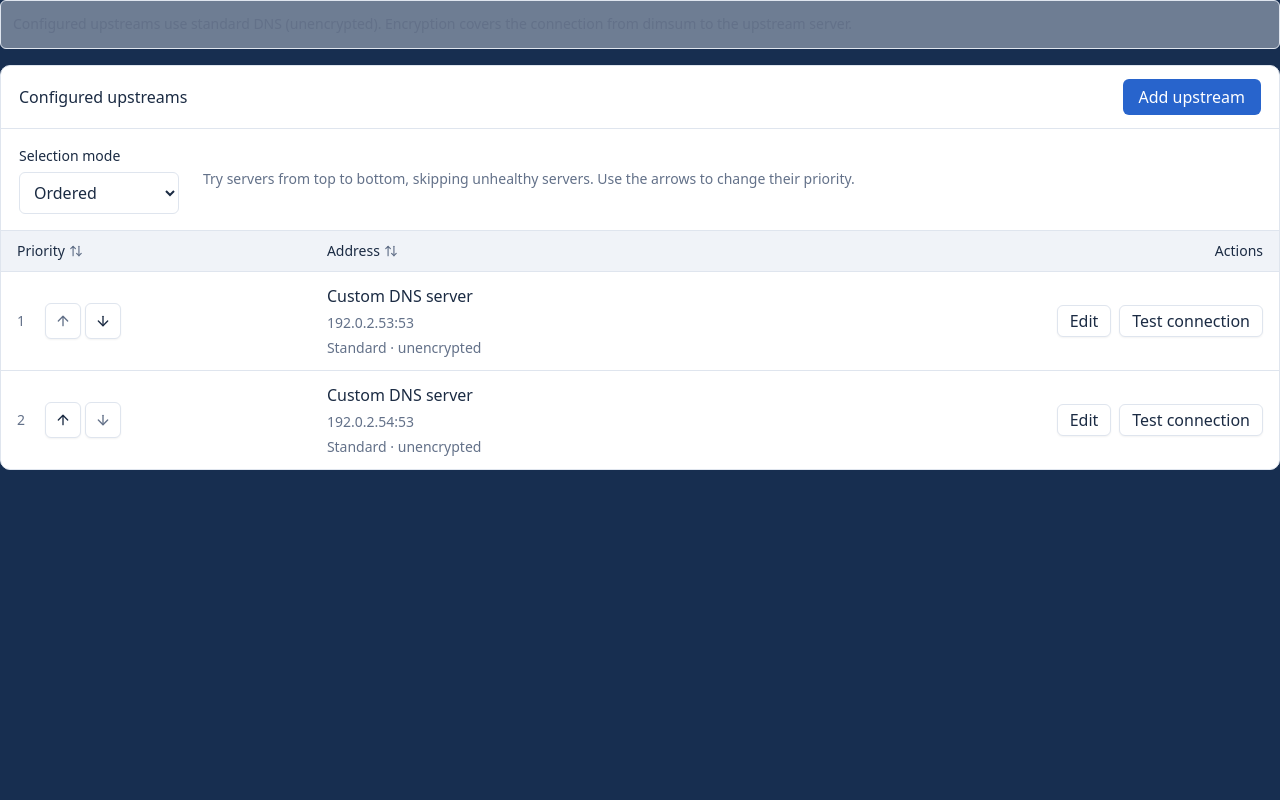
keeps saved upstream order after a revision conflict
Click the button named "Move 192.0.2.53:53 down". click: (103, 321)
box: [85,303,121,339]
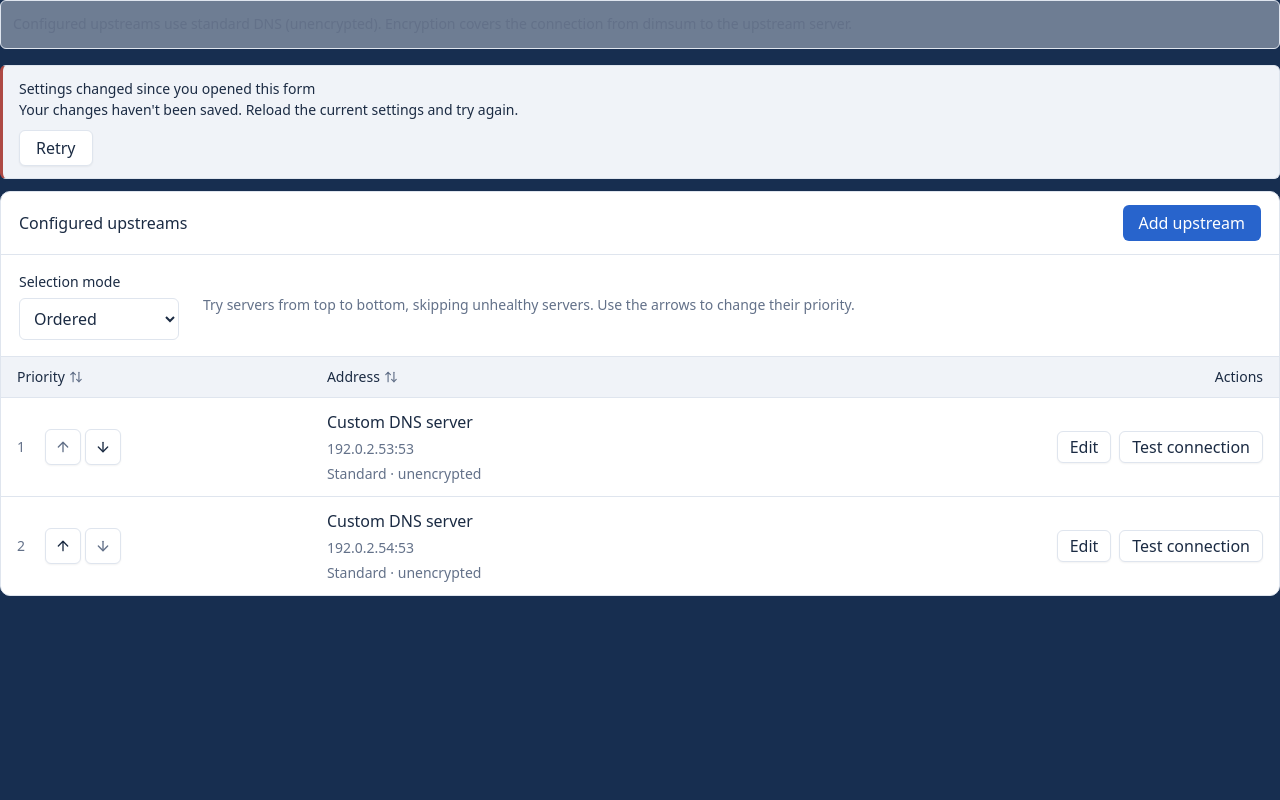
Check: the dropdown labelled "Selection mode" shows "Ordered", box [19,298,179,340]
Check: the message shows "haven't been saved", box [19,100,518,119]
